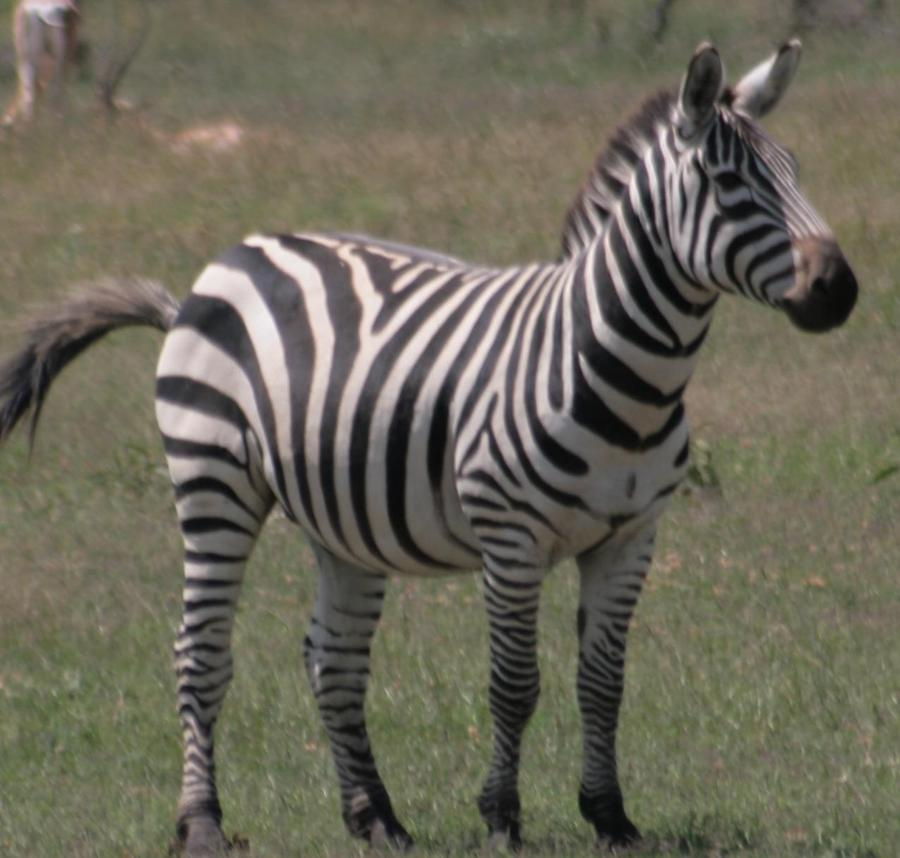zebra_plains: (117, 196, 650, 592)
